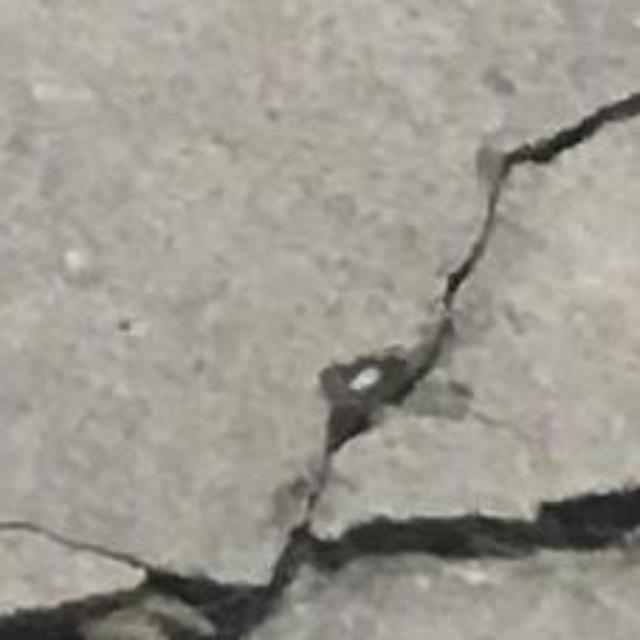crack: (0, 94, 639, 639)
